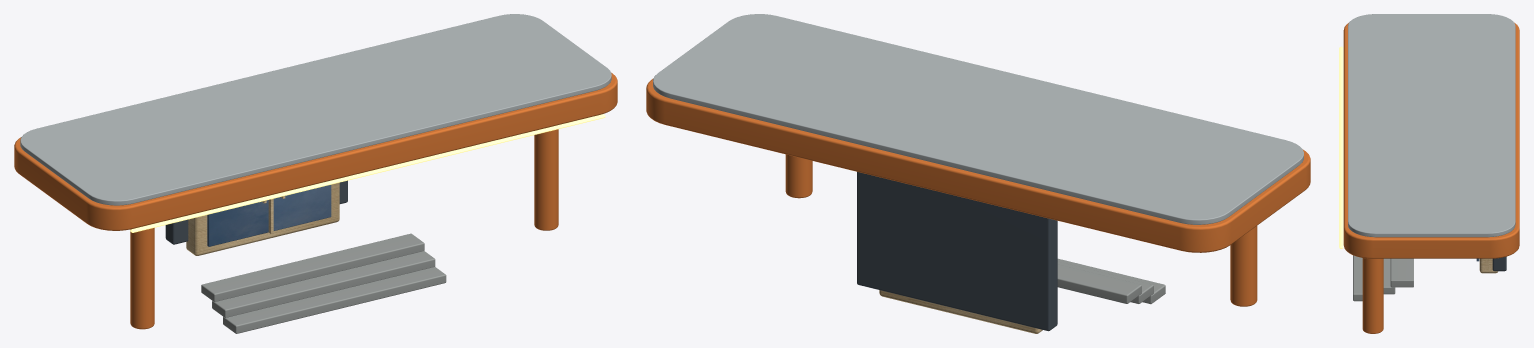
File: entrance.glb
3 views of the same model, side by side, from view 1: azimuth 30°, elevation 25°; view 2: azimuth 150°, elevation 25°; view 3: azimuth 270°, elevation 25° (orthographic). The views are drawn at different scales.
Parts seen in each view (by area): view 1: entrance; view 2: entrance; view 3: entrance.
Part boxes in pixels (left/top/right/bottom): entrance: left=14, top=14, right=617, bottom=333; entrance: left=646, top=14, right=1310, bottom=333; entrance: left=1339, top=14, right=1519, bottom=333.
Size of the model in its own units: 4.5 by 1.34 by 1.54.
7 materials, 2 textured.
